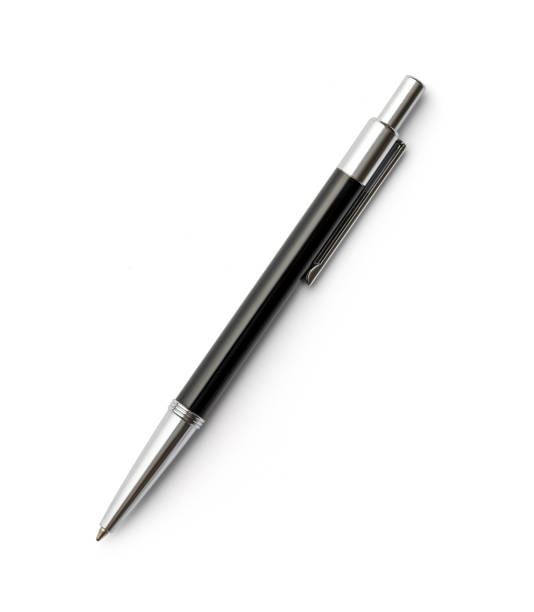pen: (88, 66, 436, 548)
